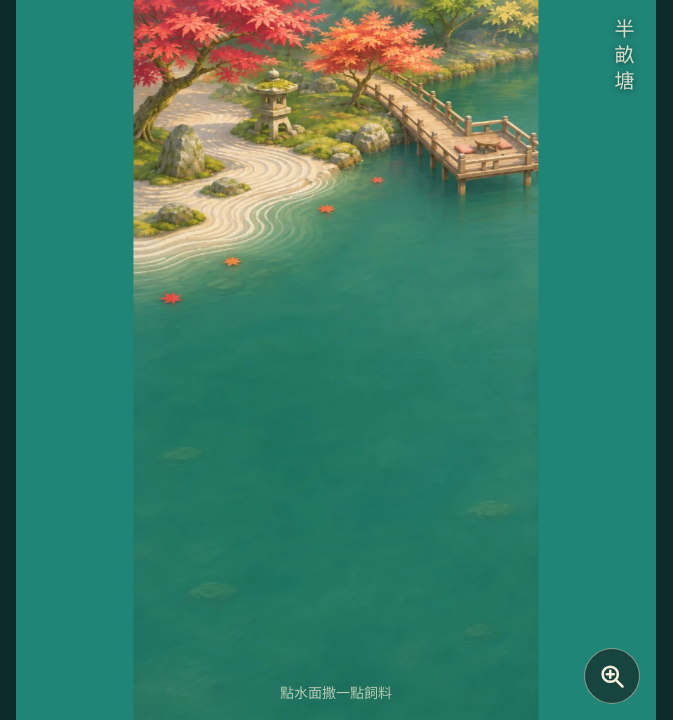
it: Pond zoom › the magnifier zooms in and back out
The image size is (673, 720).
Click the button named "放大". click: (612, 676)
box: [584,648,640,704]
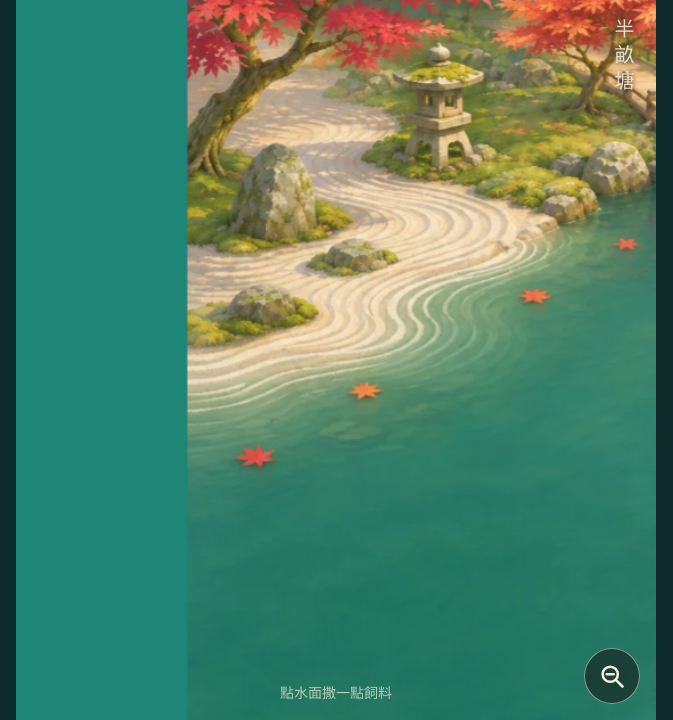
Click the button named "縮回全景". click: (612, 676)
box: [584,648,640,704]
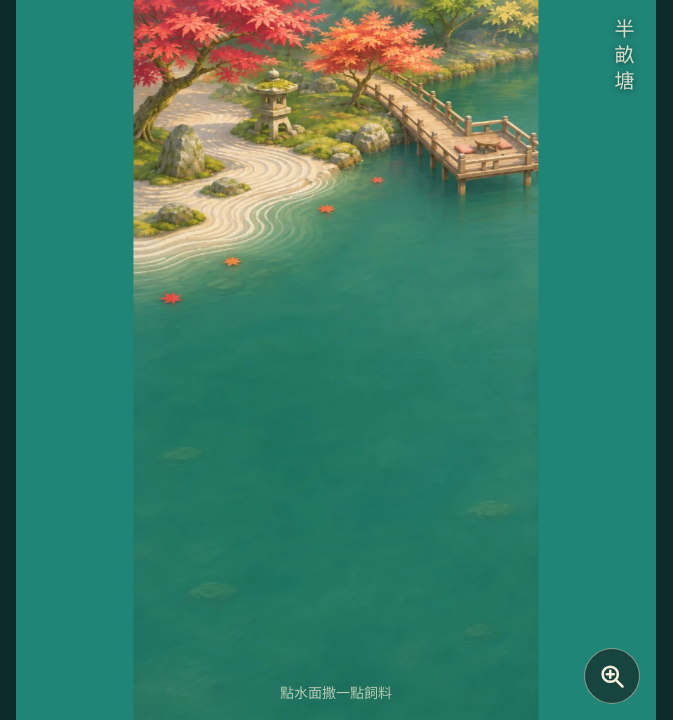
Result: the button named "放大" is shown at [584,648,640,704]
